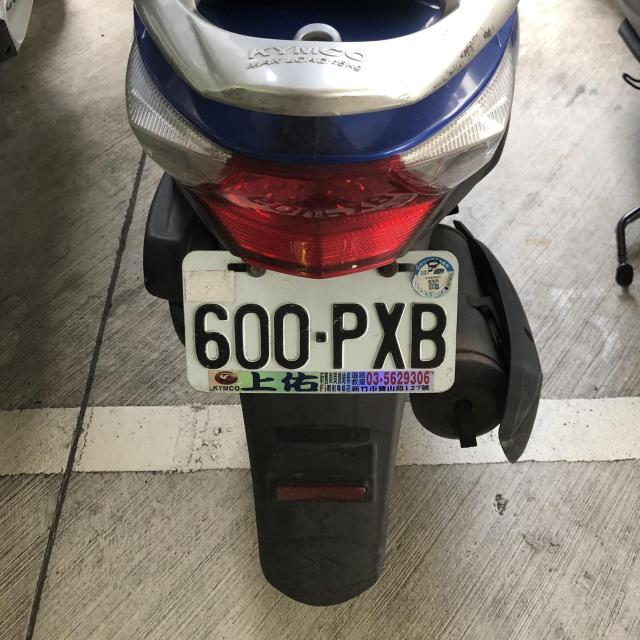W: (177, 248, 457, 397)
